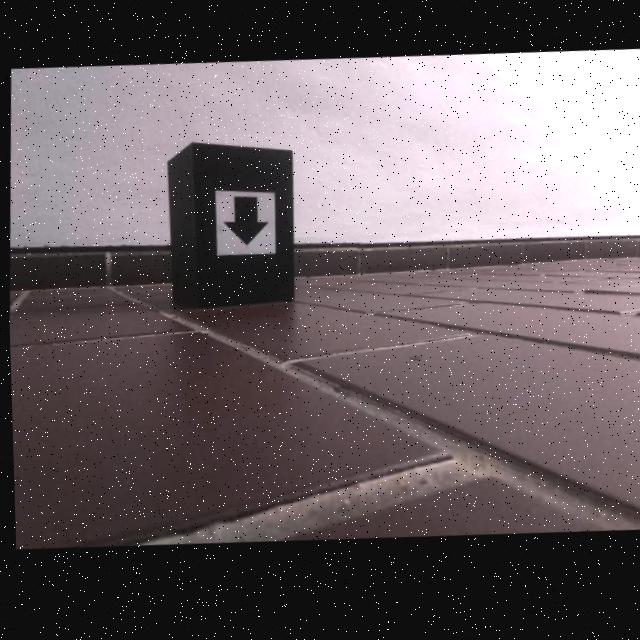DOWN: (220, 200, 268, 250)
